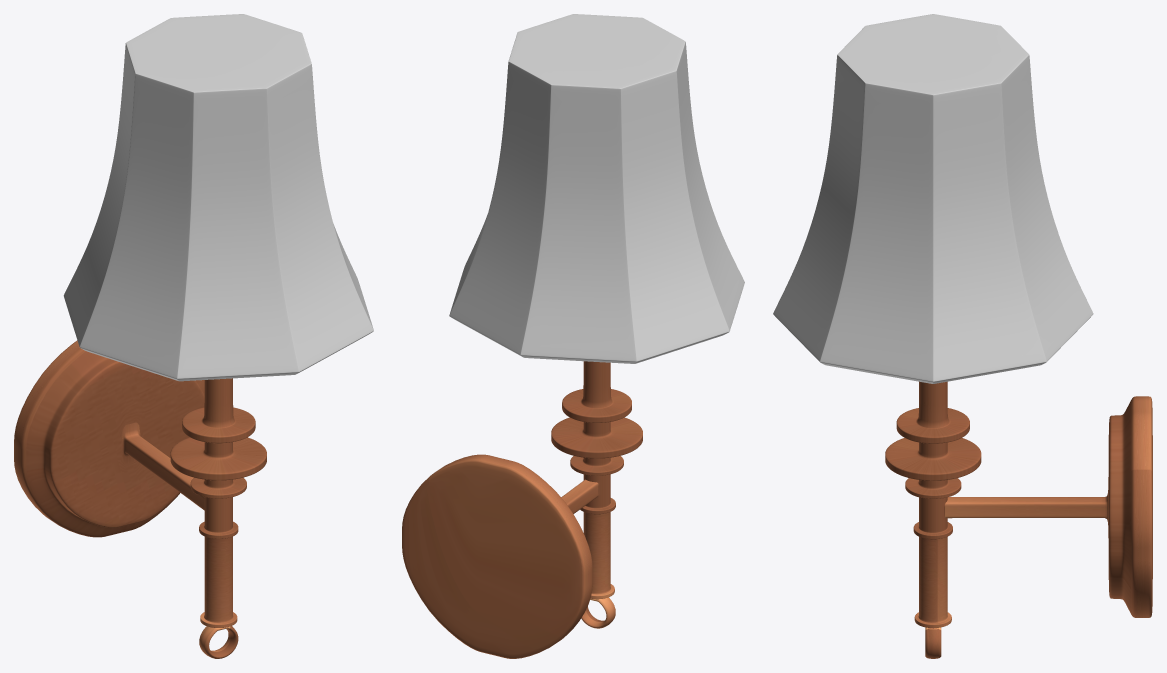
File: wall_lamp.fbx
The picture shows the model from 3 angles, left to right: view 1: azimuth 30°, elevation 25°; view 2: azimuth 150°, elevation 25°; view 3: azimuth 270°, elevation 25°; orthographic projection. The views are drawn at different scales.
Visible parts, largest first — view 1: wall_lamp_shade, wall_lamp_base; view 2: wall_lamp_shade, wall_lamp_base; view 3: wall_lamp_shade, wall_lamp_base.
Part boxes in pixels (bbox=[...]): wall_lamp_shade: bbox=[63, 14, 373, 381]; wall_lamp_base: bbox=[14, 340, 266, 658]; wall_lamp_shade: bbox=[449, 14, 744, 363]; wall_lamp_base: bbox=[402, 361, 642, 658]; wall_lamp_shade: bbox=[773, 14, 1093, 383]; wall_lamp_base: bbox=[885, 381, 1152, 658].
Size of the model in its own units: 5.46 by 11.34 by 6.47.
